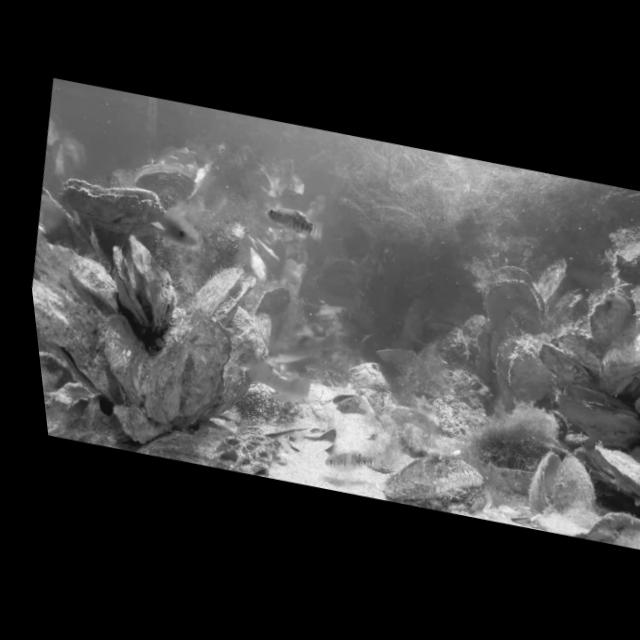Oyster-Closed: (129, 312, 204, 423), (168, 314, 243, 424), (54, 171, 171, 233), (585, 281, 640, 406), (549, 391, 640, 458), (29, 186, 109, 261), (579, 285, 640, 354), (583, 441, 640, 509)
Oyster-Indeterminate: (31, 277, 143, 405), (208, 303, 283, 414), (85, 310, 162, 408), (59, 253, 127, 317), (530, 339, 600, 390), (39, 346, 82, 429), (532, 253, 575, 310)
Oyster-Open: (93, 229, 192, 341), (518, 446, 608, 533), (181, 257, 265, 333), (470, 258, 543, 335), (127, 153, 201, 203), (328, 388, 369, 418)
